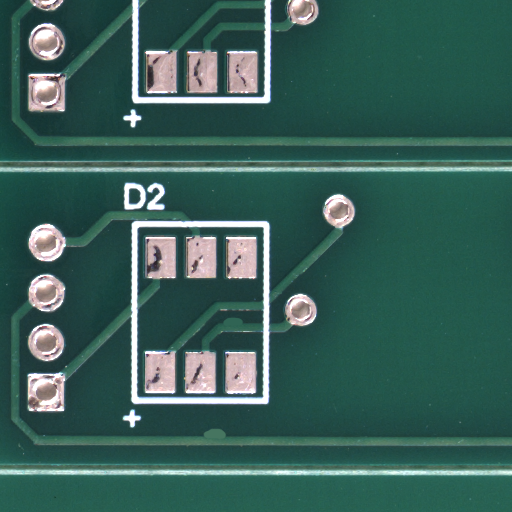Spur: (212, 433, 240, 447), (232, 321, 259, 332)
